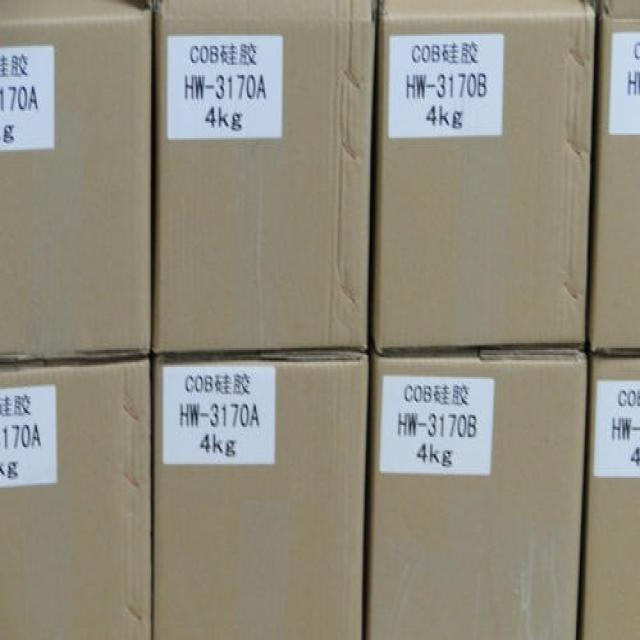box: (128, 1, 376, 354), (370, 1, 595, 353), (365, 342, 588, 638), (152, 355, 368, 638), (1, 1, 151, 359), (0, 358, 151, 638), (587, 1, 638, 351), (578, 357, 638, 638)
